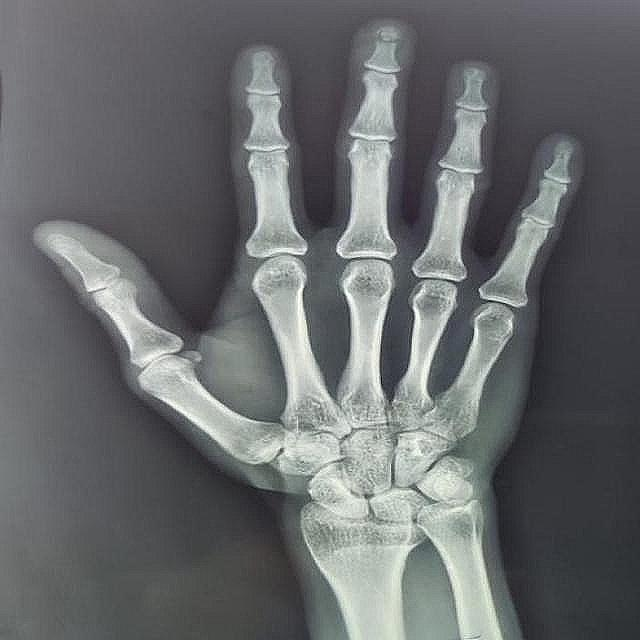bone: (358, 16, 412, 66)
